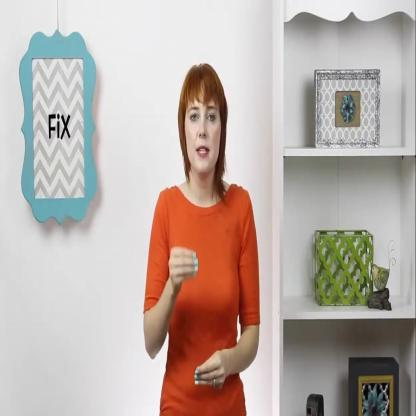Fix: (162, 220, 229, 412)
